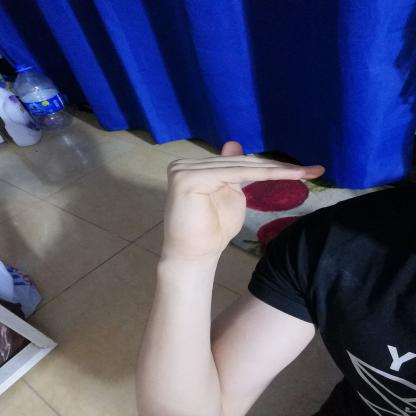KHAA: (139, 130, 337, 268)
